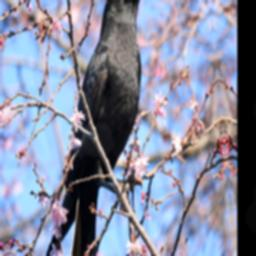Crow: (19, 0, 187, 256)
